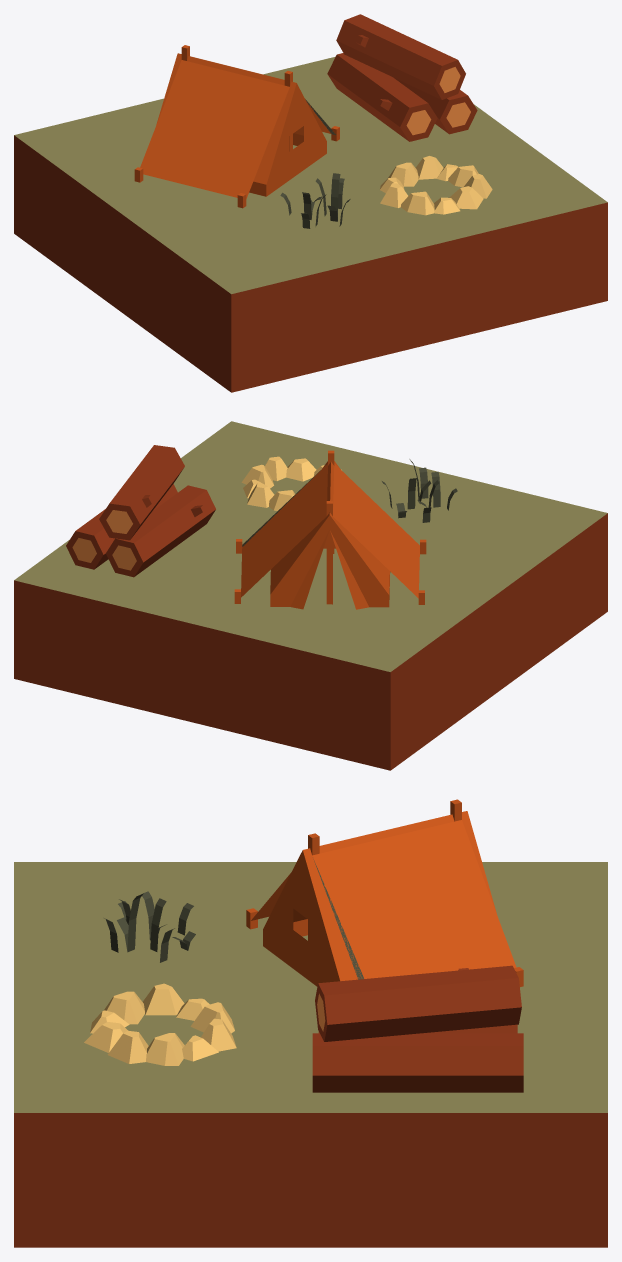
File: campfire.fbx
3 views of the same model, one above another, from view 1: azimuth 30°, elevation 25°; view 2: azimuth 150°, elevation 25°; view 3: azimuth 270°, elevation 25° (orthographic). The views are drawn at different scales.
Parts seen in each view (by area): view 1: log_stack.001; view 2: log_stack.001; view 3: log_stack.001.
Part boxes in pixels (left/top/right/bottom): log_stack.001: left=14, top=14, right=607, bottom=392; log_stack.001: left=14, top=421, right=607, bottom=770; log_stack.001: left=14, top=799, right=607, bottom=1247.
Size of the model in its own units: 200 by 101 by 200.
Materials: 1 (1 with a texture image).
